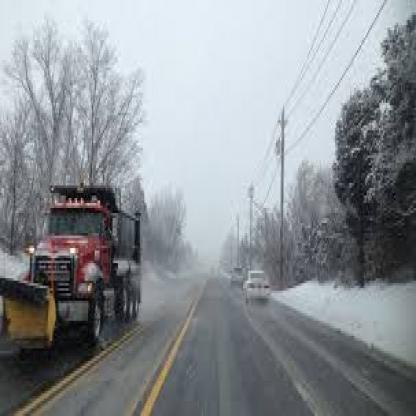car: (8, 166, 162, 359), (238, 264, 272, 309)
